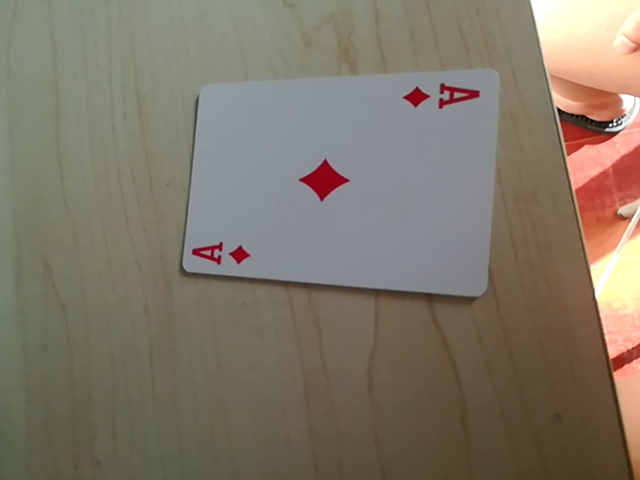fk a: (398, 80, 482, 115), (186, 236, 255, 271)
